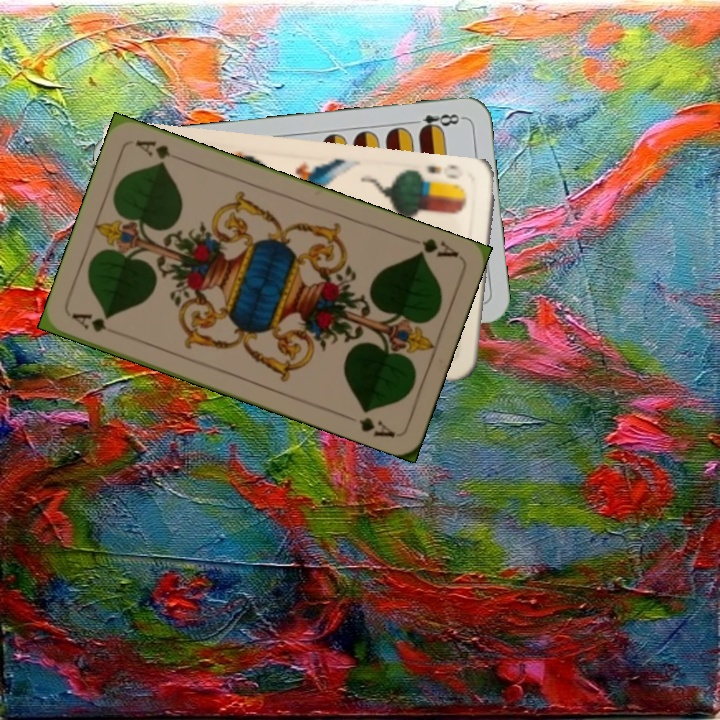E8: (406, 110, 465, 135)
EO: (423, 160, 466, 182)
GA: (403, 233, 462, 261), (68, 309, 109, 335)
